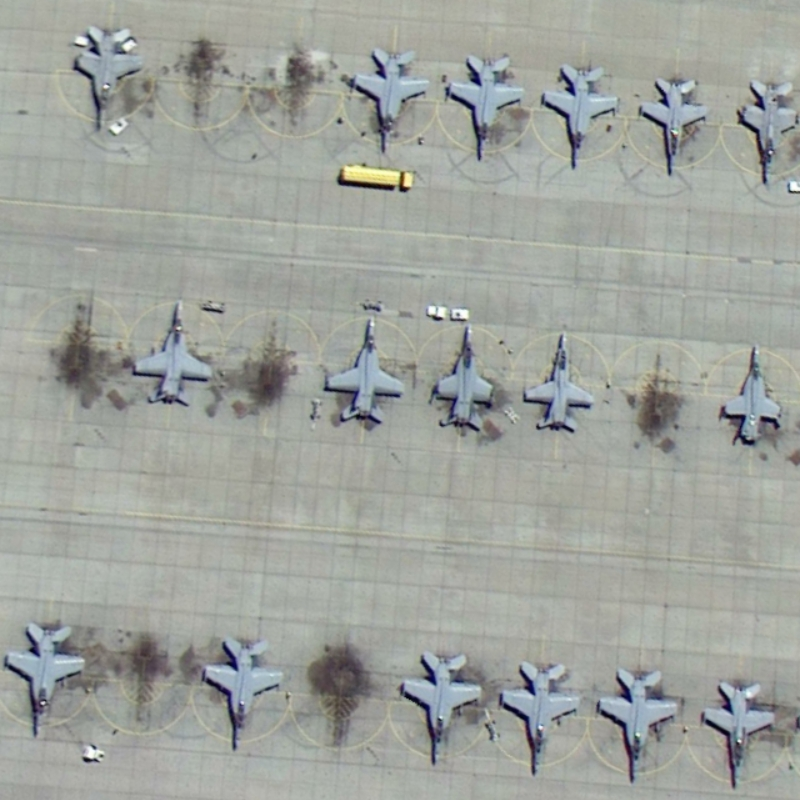A16: (492, 655, 587, 782), (397, 640, 486, 775), (198, 627, 287, 760), (1, 613, 93, 741), (122, 294, 221, 409), (594, 663, 684, 789), (341, 39, 434, 160), (534, 55, 623, 178), (693, 670, 782, 791), (441, 48, 529, 170), (65, 15, 150, 139), (319, 312, 408, 430), (517, 322, 600, 437), (428, 317, 502, 444), (632, 70, 714, 182), (711, 337, 786, 452), (731, 74, 800, 189)
